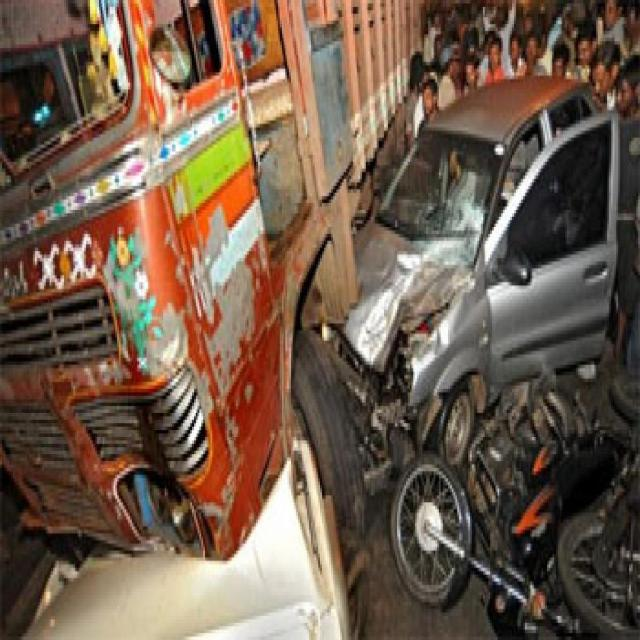accident: (0, 0, 420, 557), (333, 78, 619, 490), (390, 379, 640, 638)
